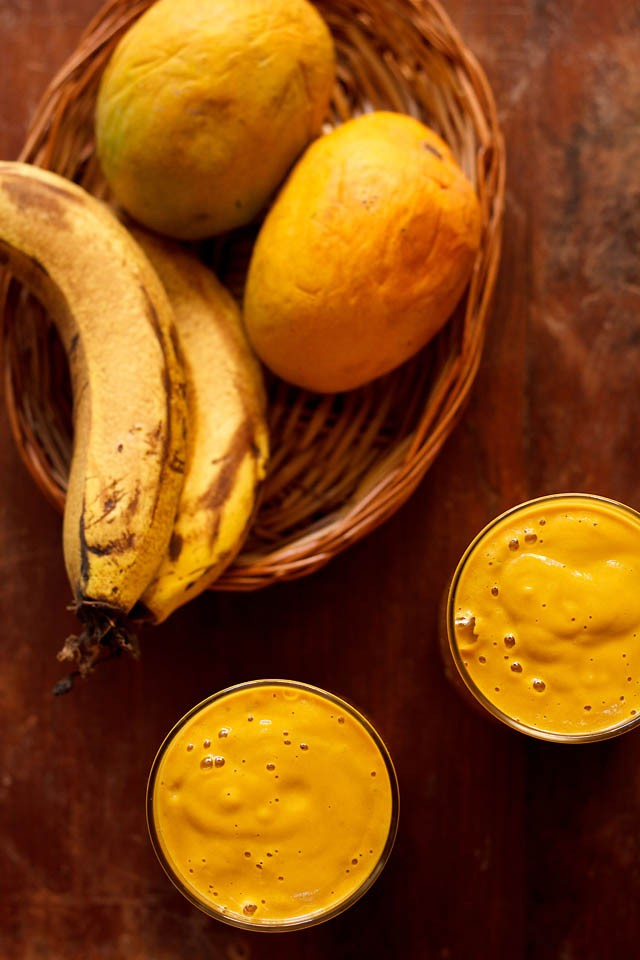mango: (244, 103, 489, 388), (88, 6, 355, 224)
